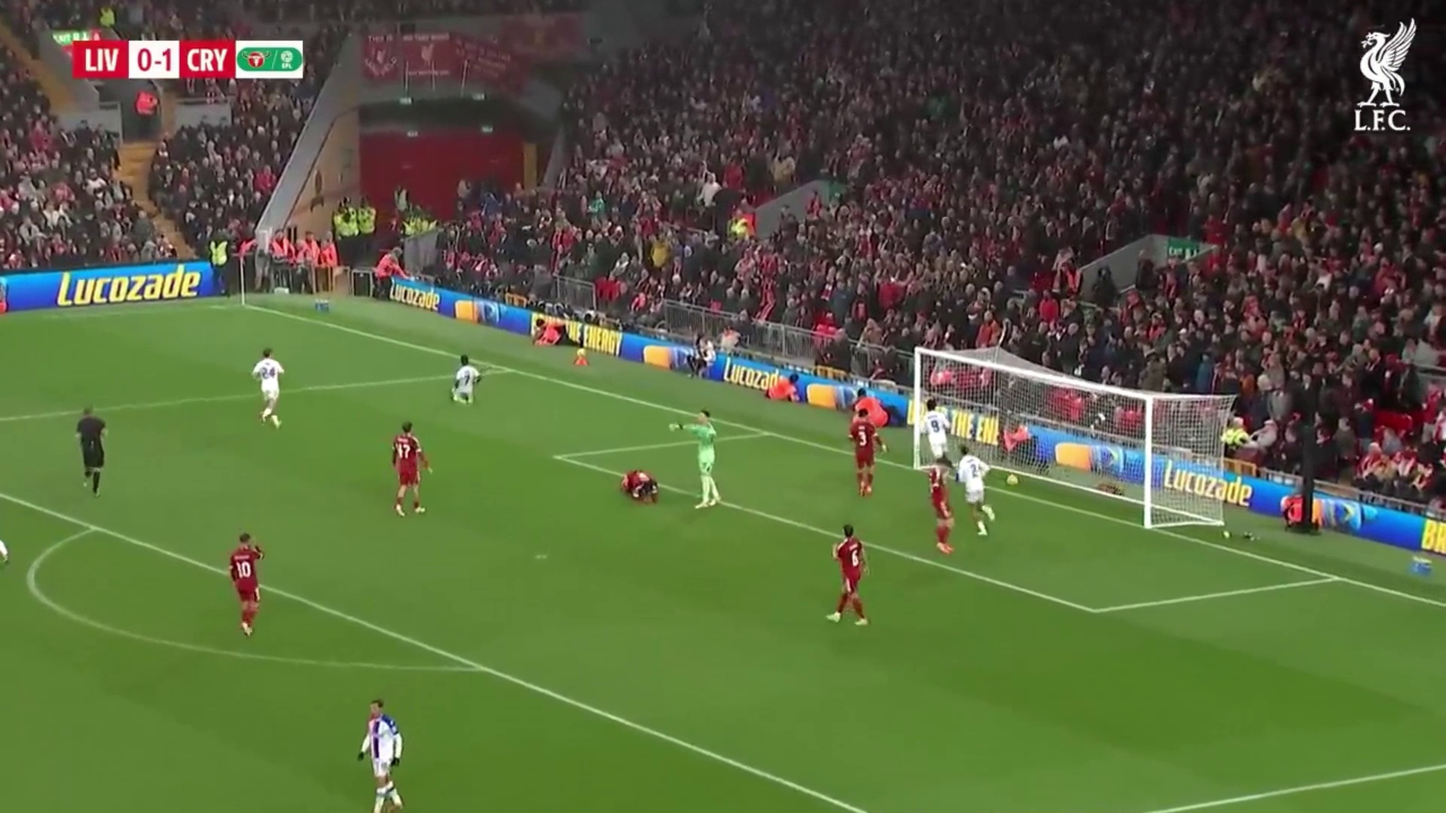player: (360, 698, 405, 813), (680, 406, 722, 508), (847, 392, 885, 497), (226, 531, 263, 637), (831, 523, 869, 626), (390, 421, 431, 516), (957, 446, 994, 539), (76, 407, 109, 497), (926, 462, 956, 557), (254, 350, 284, 428), (451, 351, 479, 405), (622, 468, 660, 504)
